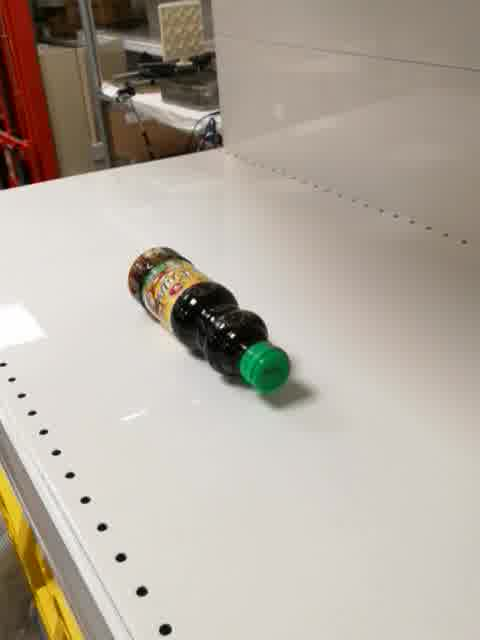cookingoil: (126, 246, 294, 393)
